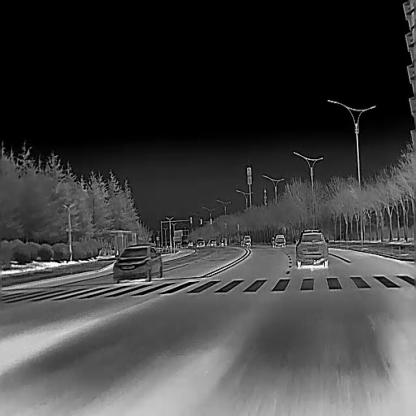car: (111, 242, 161, 282), (292, 228, 328, 268), (272, 233, 285, 247), (196, 237, 205, 247), (242, 234, 250, 244), (206, 238, 216, 245), (221, 236, 226, 245), (186, 240, 192, 246)
